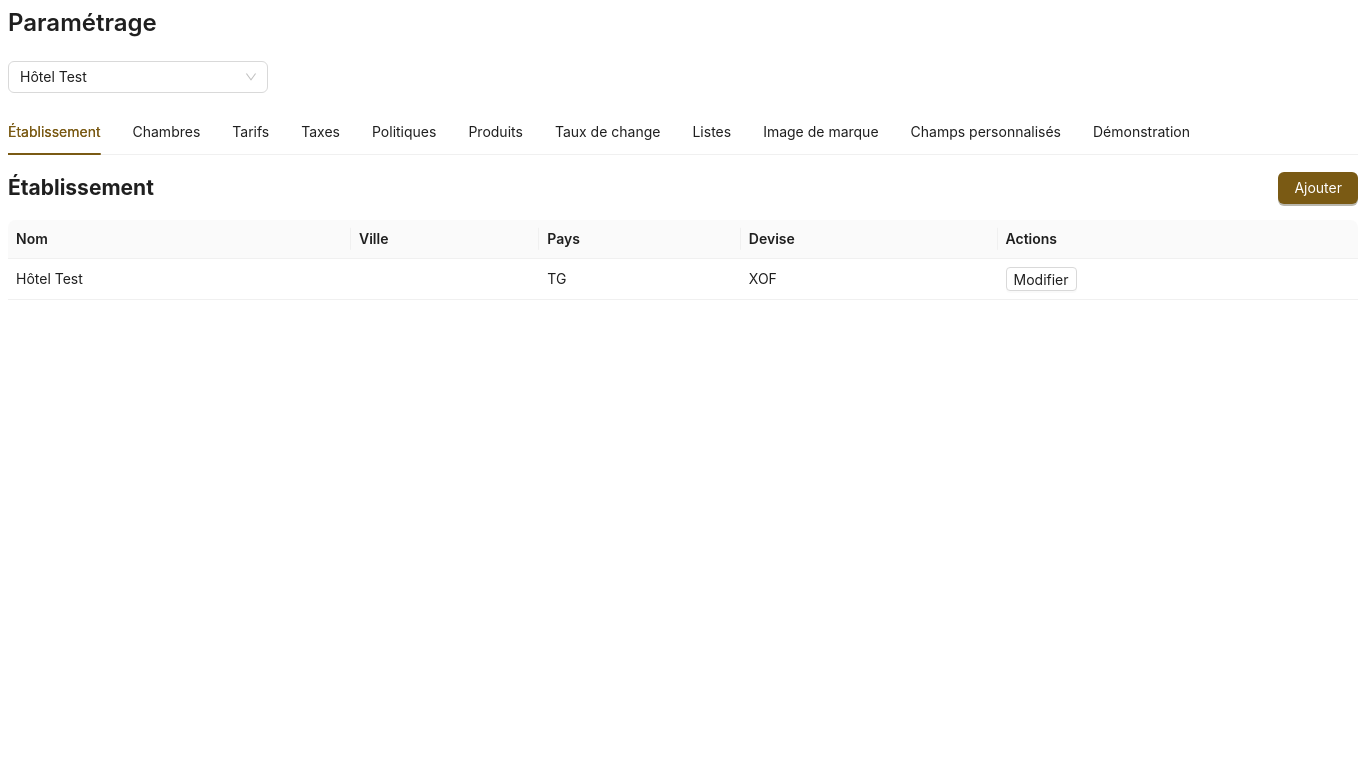
Test case: settings display fixes › preselects the first rate plan and loads its grid
Expected: the text "Hôtel Test" is shown, [20,68,87,85]
Click the tab "Tarifs" at (251, 132), box [232,121,269,143]
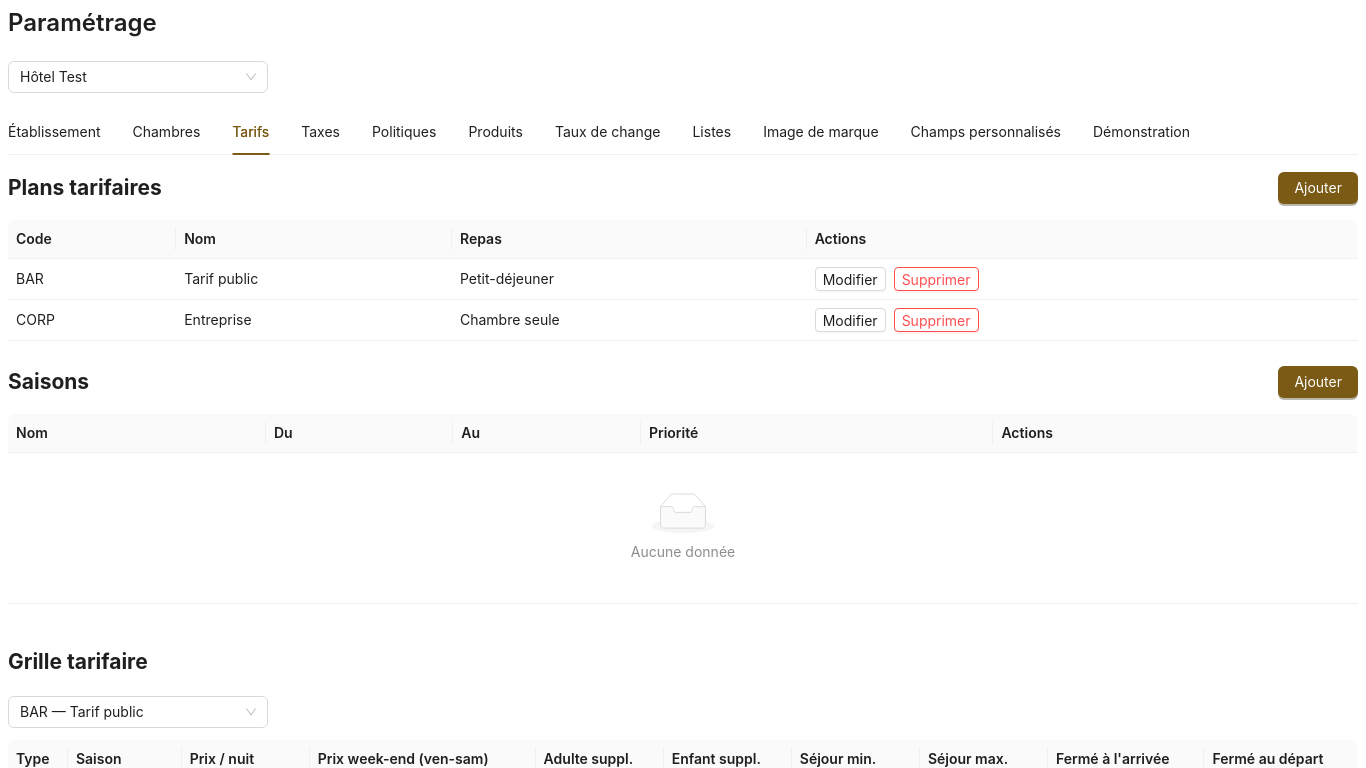
Result: the text "Petit-déjeuner" is shown at [452,259,807,300]
